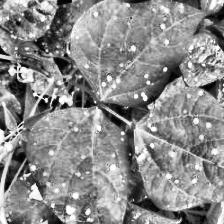Bean Rust: (31, 105, 130, 224), (79, 0, 193, 98), (136, 86, 224, 210), (177, 36, 224, 88), (0, 0, 58, 42)
